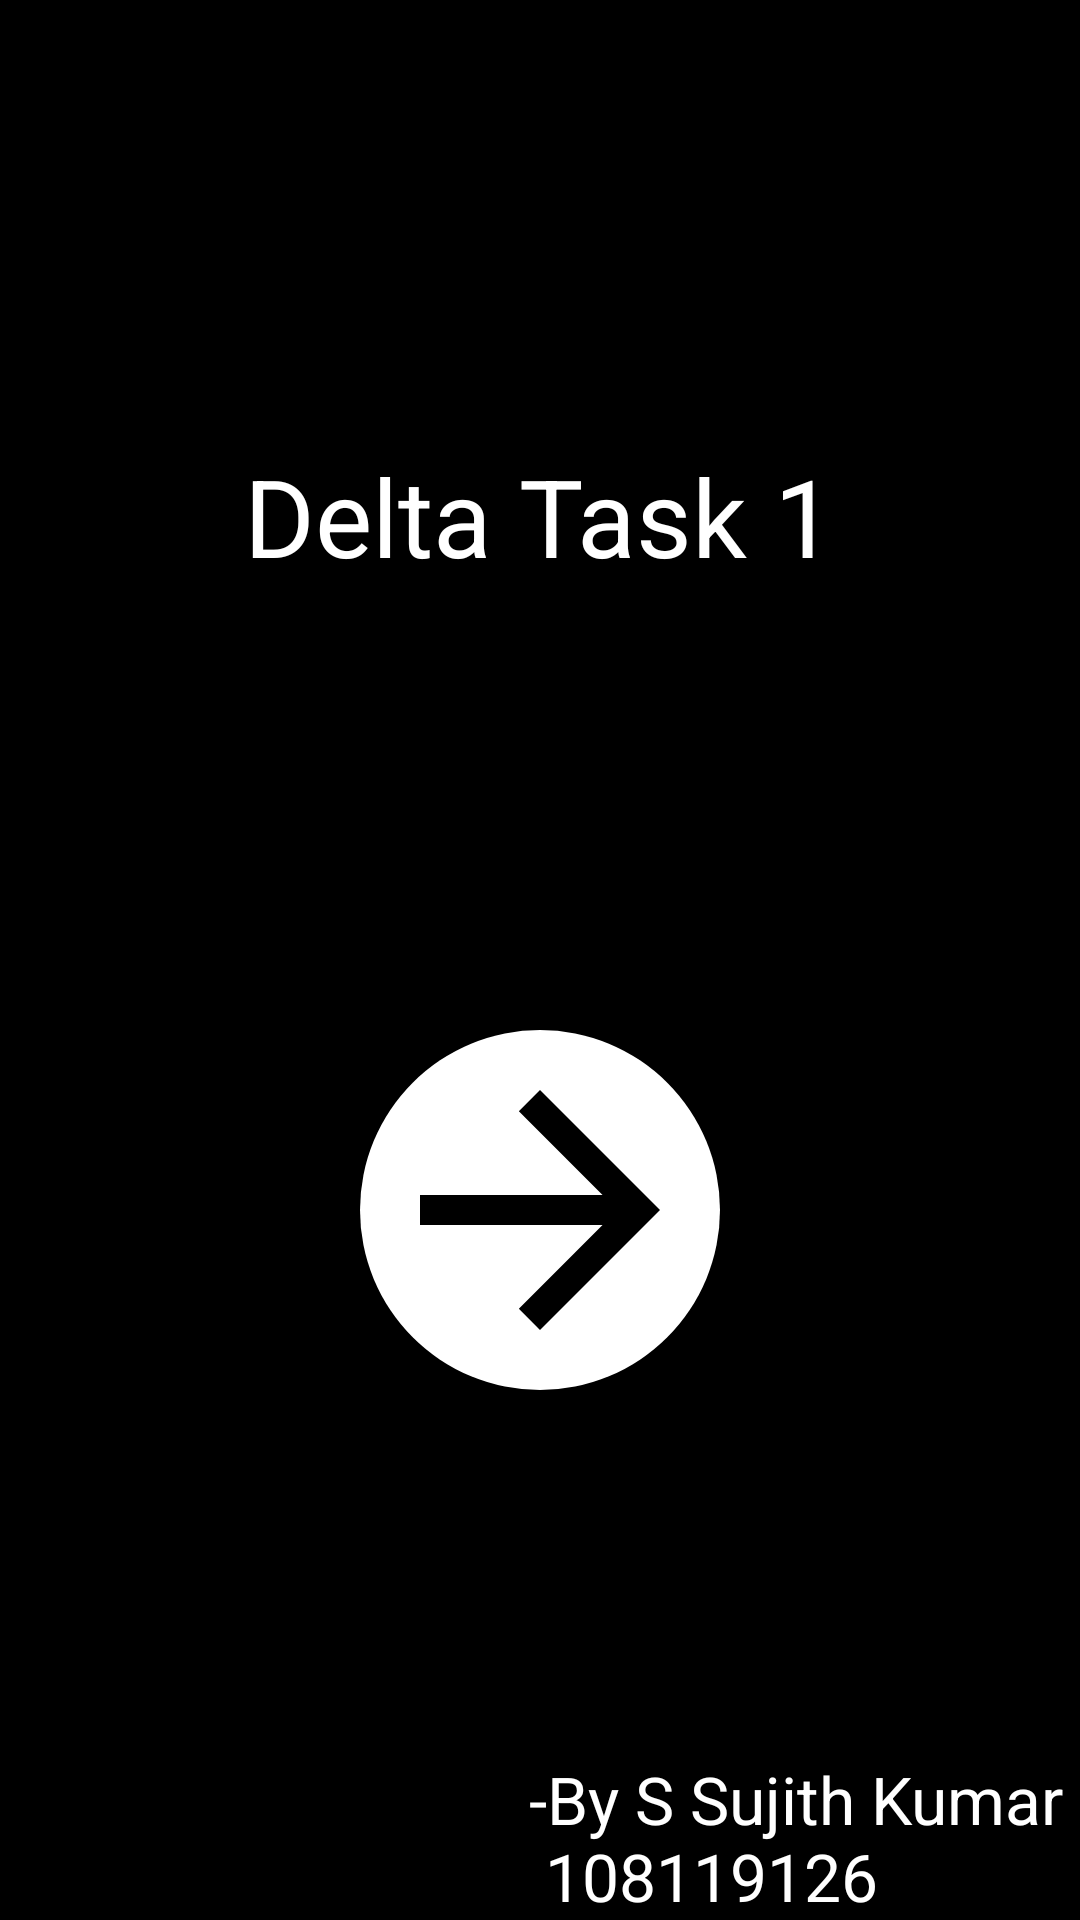

Locate icon controls on the screen. Image size 1080w x 1920h, boxes as [x1, y1, x2, y2].
arrow forward: [360, 1030, 720, 1390]
